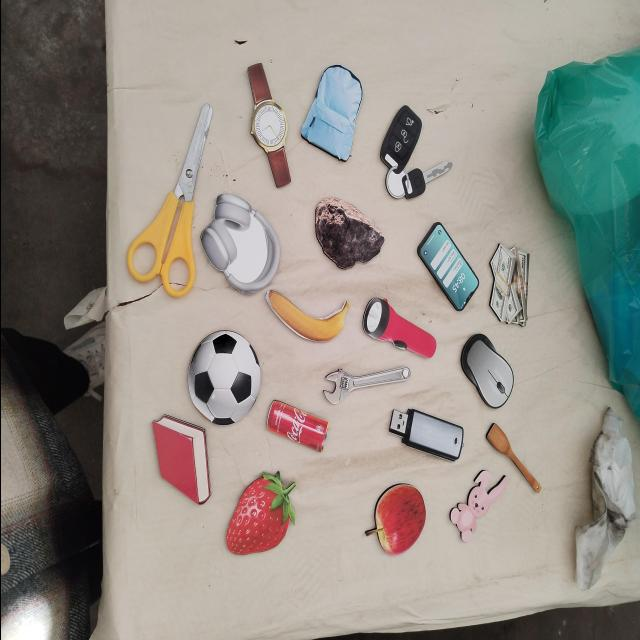Other Objects: (126, 103, 212, 298), (175, 312, 273, 443), (361, 99, 452, 221), (199, 192, 281, 295), (298, 56, 372, 164), (413, 219, 483, 315), (453, 324, 521, 416), (359, 292, 441, 362), (246, 61, 290, 190), (319, 346, 410, 407), (313, 196, 384, 270), (386, 402, 465, 464), (483, 421, 547, 494), (364, 483, 426, 556), (264, 289, 349, 342), (449, 469, 508, 543), (488, 243, 530, 327), (266, 399, 329, 453)
